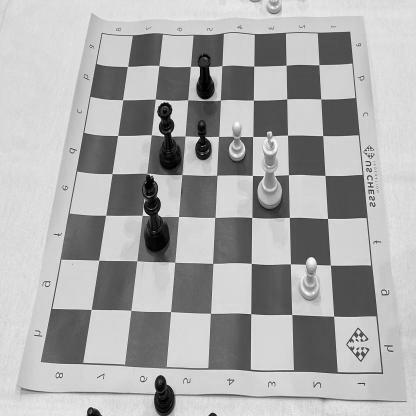black-king: (140, 168, 170, 258)
black-pawn: (192, 118, 213, 163)
black-queen: (156, 99, 183, 170)
black-rook: (192, 50, 218, 102)
white-pawn: (297, 256, 322, 306), (226, 118, 249, 165)
white-queen: (252, 129, 286, 213)
